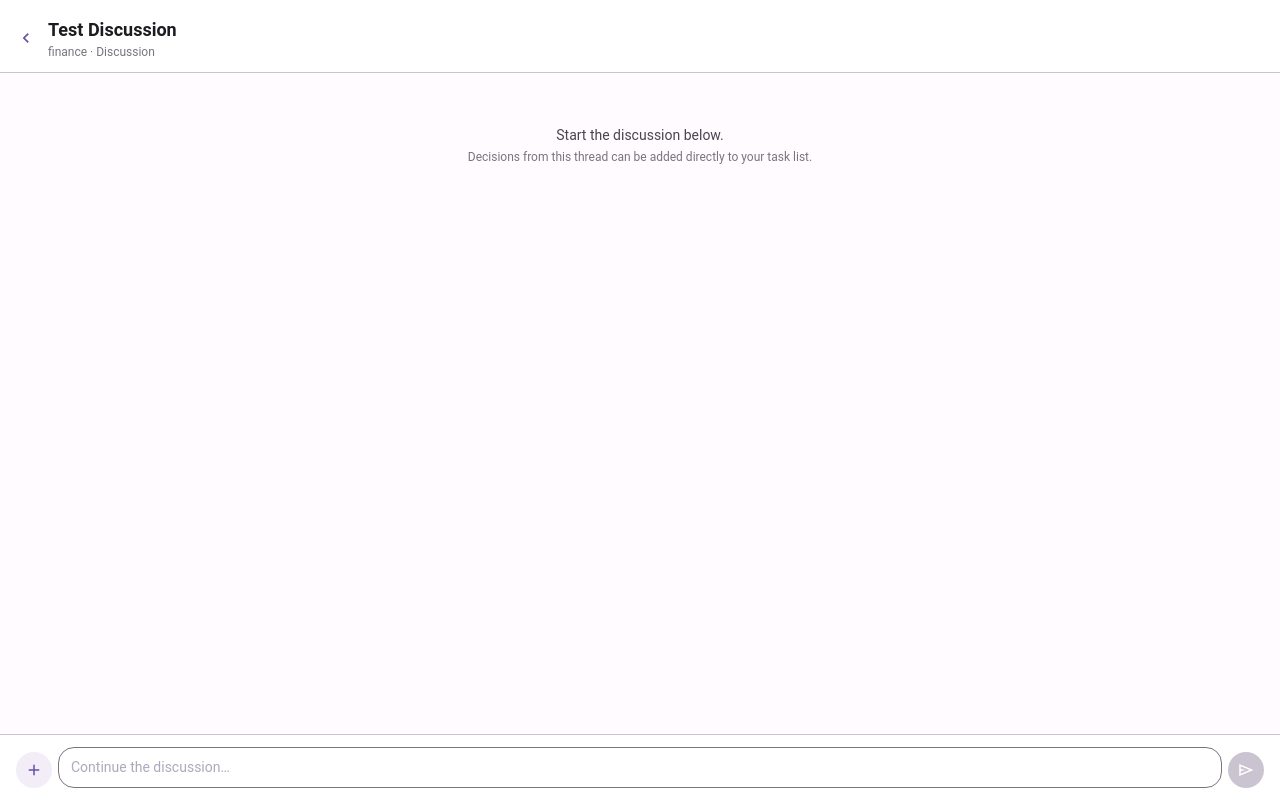
Scenario: DiscussionThread › VP4: dropdown shows "No messages yet." when discussion has no messages
Click the button "Test Discussion" at (112, 30), box x1=48 y1=16 x2=1264 y2=44
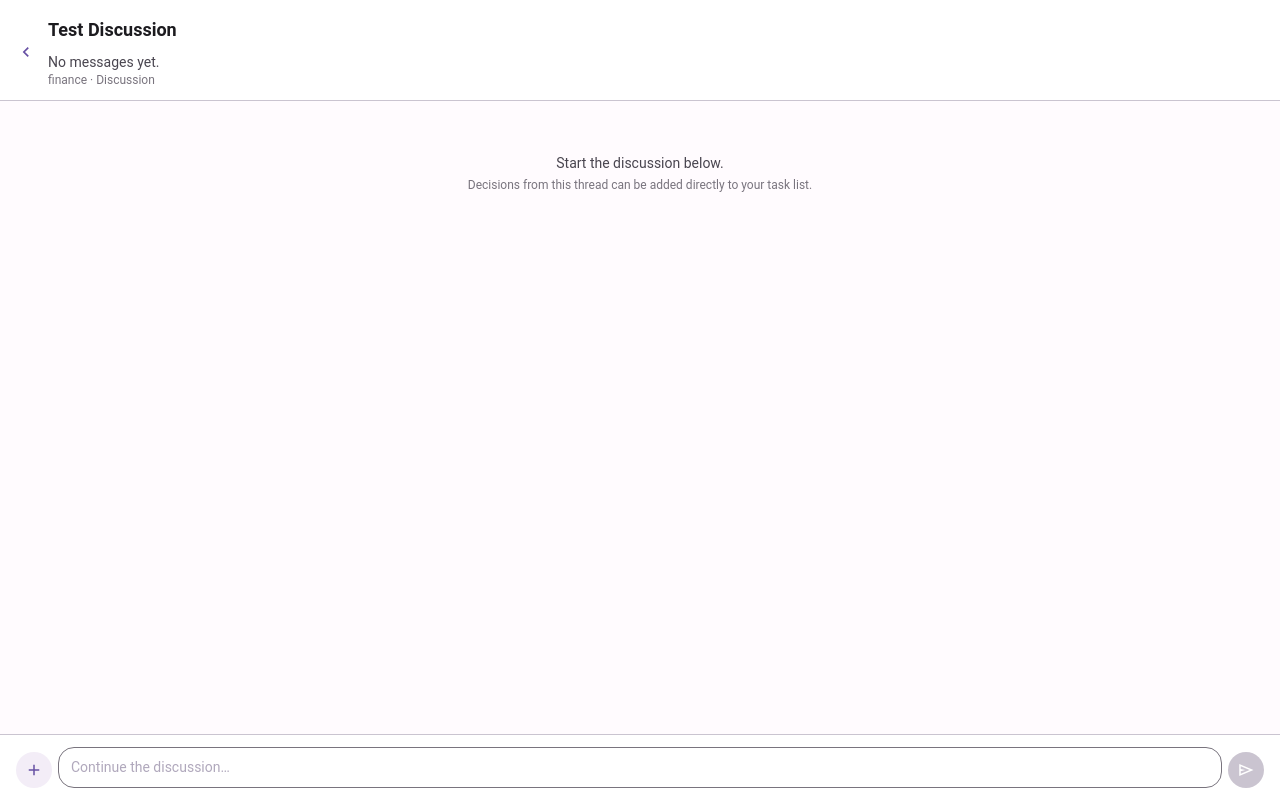
Now the text "No messages yet." is shown, box x1=48 y1=54 x2=159 y2=70
